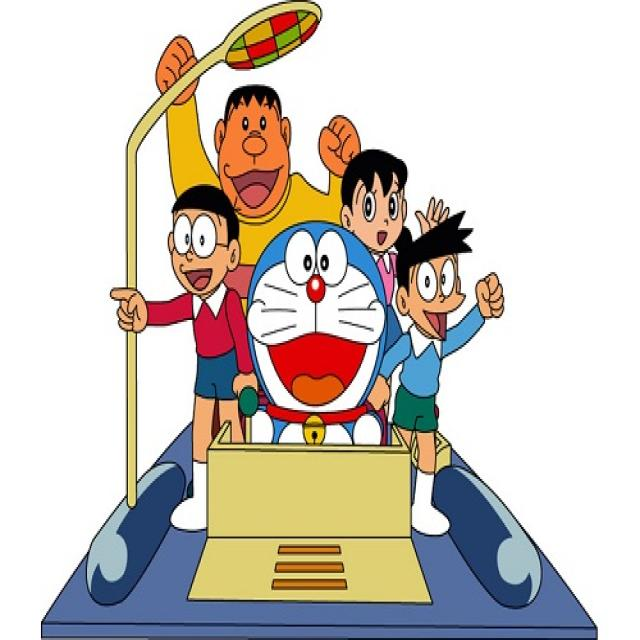doraemon: (242, 214, 390, 448)
jaian: (208, 71, 296, 226)
nobita: (164, 180, 246, 301)
shizuka: (336, 142, 409, 251)
suneo: (385, 197, 480, 341)
